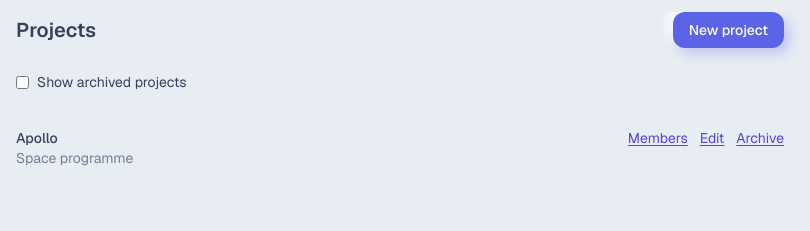
Test: ProjectsPage › shows and hides archived projects via the toggle
The width and height of the screenshot is (810, 231).
Expected: the text "Apollo" is shown, [16, 129, 58, 147]
Expected: the text "Zephyr" is not shown
Click the checkbox labelled "Show archived projects" at (22, 82), box [16, 76, 29, 88]
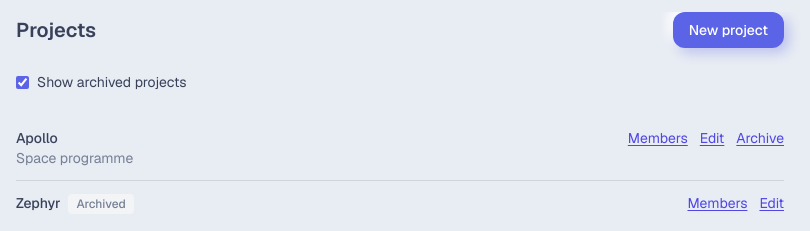
Expected: the text "Zephyr" is shown, [16, 194, 60, 212]
Click the checkbox labelled "Show archived projects" at (22, 82), box [16, 76, 29, 88]
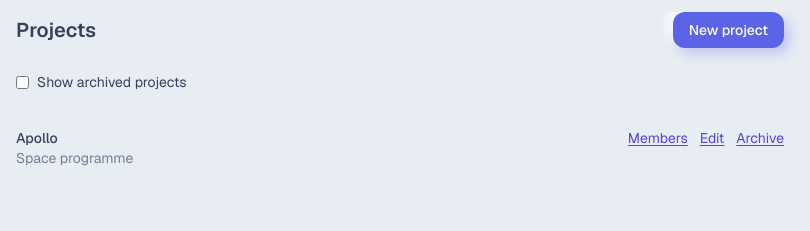
Expected: the text "Zephyr" is gone
